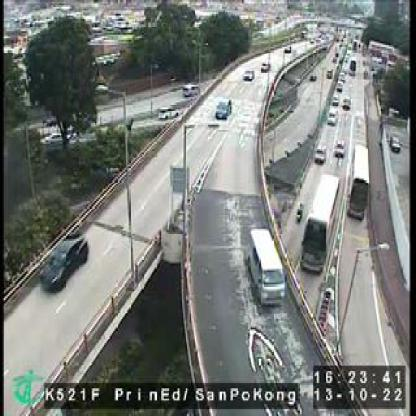Bus: (302, 176, 340, 269), (247, 227, 284, 306), (349, 151, 369, 217)
Car: (39, 230, 90, 294), (216, 96, 234, 119), (314, 143, 327, 164), (183, 82, 200, 96), (390, 137, 402, 154), (335, 141, 345, 157), (326, 112, 337, 126), (342, 97, 352, 111), (244, 69, 256, 80), (331, 94, 341, 106), (261, 62, 271, 73)
